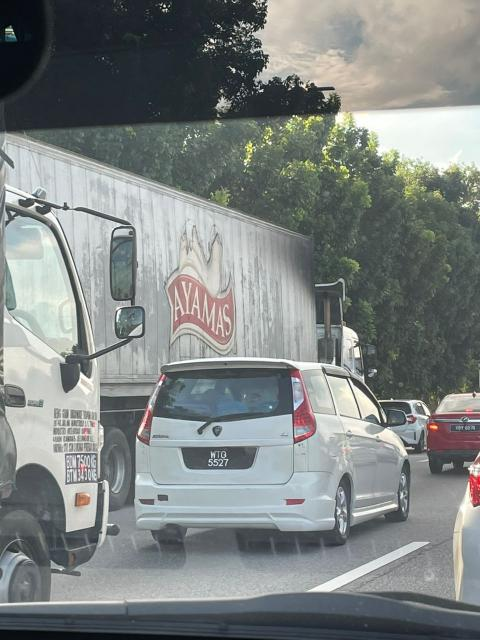License_Plate: (190, 447, 249, 473)
car: (141, 362, 411, 557)
